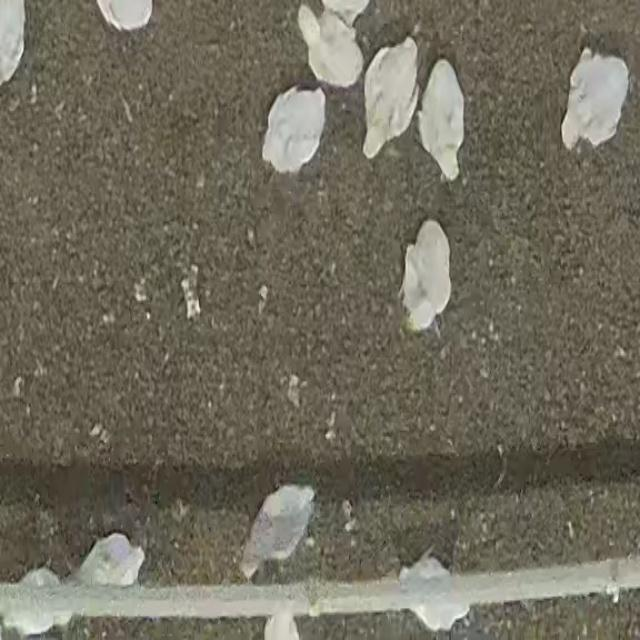chicken: (557, 54, 630, 158), (360, 38, 420, 161), (239, 483, 315, 579), (260, 83, 328, 175), (416, 58, 465, 184), (398, 218, 451, 334), (389, 557, 469, 630), (298, 3, 364, 91), (73, 532, 144, 592), (12, 568, 68, 637), (0, 0, 22, 88), (96, 0, 154, 31), (261, 612, 304, 640), (16, 567, 60, 590)
